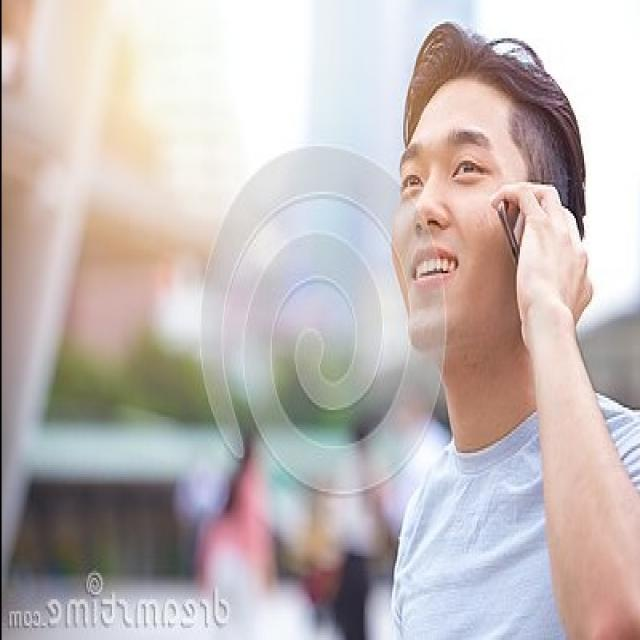phone: (440, 115, 598, 381)
